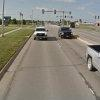Traffic light: (36, 5, 67, 20)
